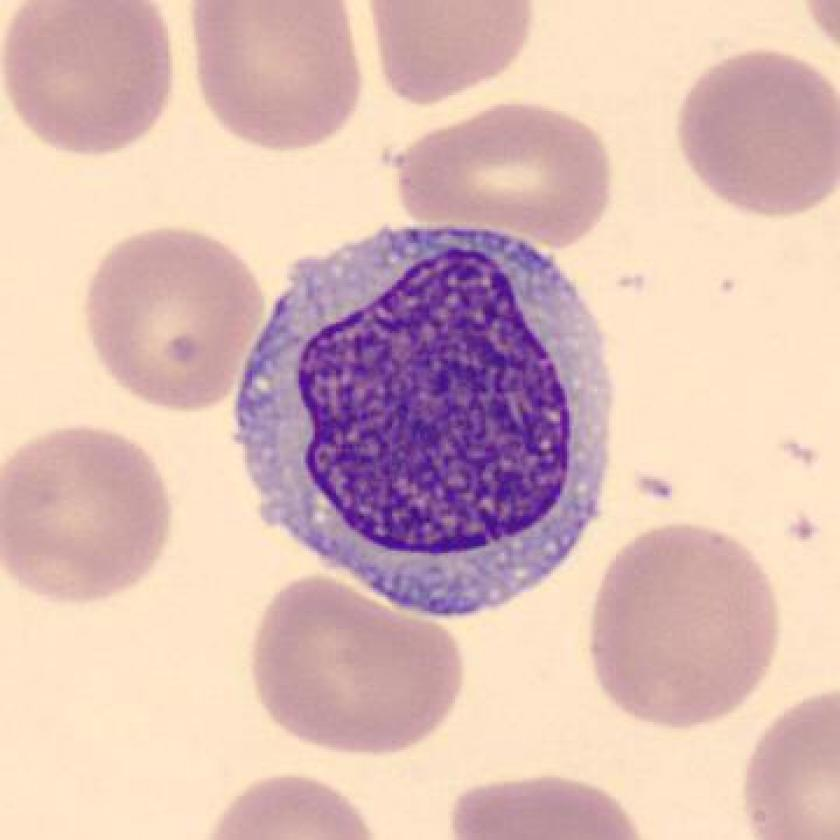monocyte: (218, 207, 633, 635)
